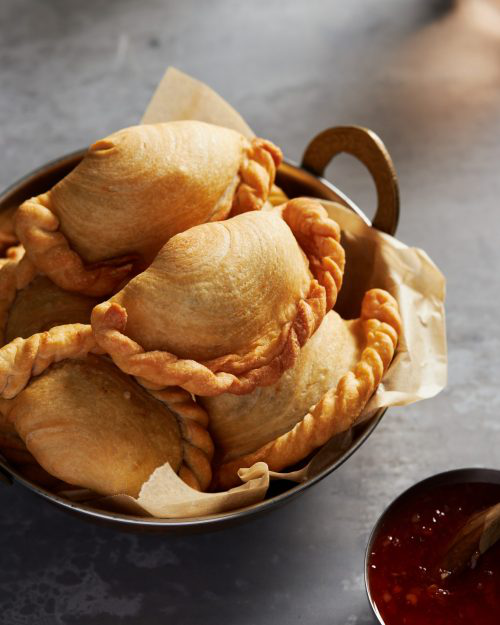Curry Puff: (23, 85, 304, 299), (107, 188, 358, 396), (0, 326, 219, 523), (223, 279, 418, 468)
